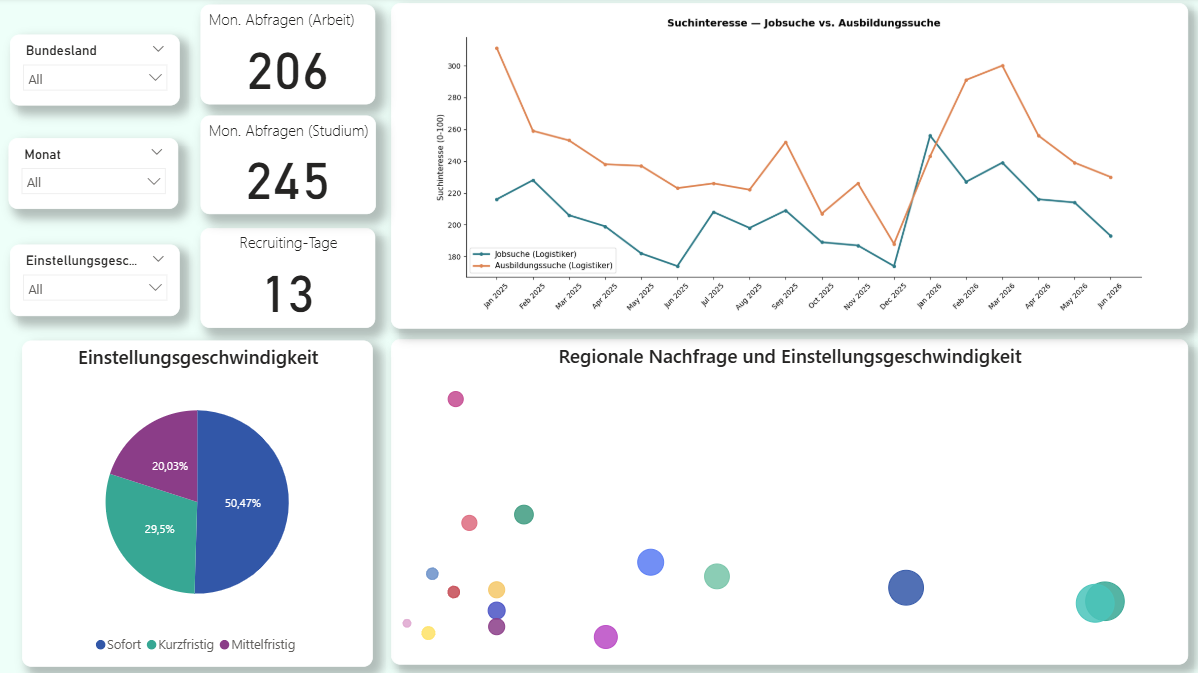

The page's visual inventory and layout, read from the dashboard file:
{"tool":"powerbi","page":{"name":"спрос и предложения","canvas":[1280,720],"ordinal":3},"visuals":[{"type":"slicer","fields":{"Values":["logistiker_jobs_clean.Bundesland"]},"box":[15.9,39.8,180,75],"z":0},{"type":"slicer","fields":{"Values":["Calendar.Jahr","Calendar.Monat_Name"]},"box":[14,150,180,75],"z":1000},{"type":"card","title":"Recruiting-Tage","fields":{"Values":["Calendar.Avg_Tage"]},"box":[217.3,245.7,185.2,105.8],"z":2000},{"type":"scatterChart","title":"Regionale Nachfrage und Einstellungsgeschwindigkeit","fields":{"Size":["CountNonNull(logistiker_jobs_clean.ID)"],"X":["logistiker_all_keywords.ID"],"Y":["Calendar.Avg_Tage"],"Series":["logistiker_all_keywords.Bundesland"]},"box":[420,362,845,345],"z":3000},{"type":"pythonVisual","fields":{"Values":["Sum(job_trends.Sum_jobs)","Sum(job_trends.Sum_studium)","job_trends.Time"]},"box":[420,6,845,345],"z":4000},{"type":"pieChart","title":"Einstellungsgeschwindigkeit","fields":{"Category":["logistiker_jobs_clean.Einstellungsgeschwindigkeit"],"Y":["Count(logistiker_jobs_clean.ID)"]},"box":[28.3,364.7,372.3,345.8],"z":5000},{"type":"slicer","fields":{"Values":["logistiker_jobs_clean.Einstellungsgeschwindigkeit"]},"box":[16,262,180,76],"z":6000},{"type":"card","title":"Mon. Abfragen (Arbeit)","fields":{"Values":["Avg(job_trends.Sum_jobs)"]},"box":[217.3,7.6,185.2,105.8],"z":7000},{"type":"card","title":"Mon. Abfragen (Studium)","fields":{"Values":["Avg(job_trends.Sum_studium)"]},"box":[217.9,125.7,186.1,105],"z":8000}]}

Visuals, with their boxes in screenshot pixels (x1, y1, x2, y2), scaled from the page's 1280x720 canvas onto the 1198x673 screenshot:
slicer - logistiker_jobs_clean.Bundesland: (15, 37, 183, 107)
slicer - Calendar.Jahr x Calendar.Monat_Name: (13, 140, 182, 210)
"Recruiting-Tage" card: (203, 230, 377, 329)
"Regionale Nachfrage und Einstellungsgeschwindigkeit" scatterChart: (393, 338, 1184, 661)
pythonVisual - Sum(job_trends.Sum_jobs) x Sum(job_trends.Sum_studium): (393, 6, 1184, 328)
"Einstellungsgeschwindigkeit" pieChart: (26, 341, 375, 664)
slicer - logistiker_jobs_clean.Einstellungsgeschwindigkeit: (15, 245, 183, 316)
"Mon. Abfragen (Arbeit)" card: (203, 7, 377, 106)
"Mon. Abfragen (Studium)" card: (204, 117, 378, 216)
